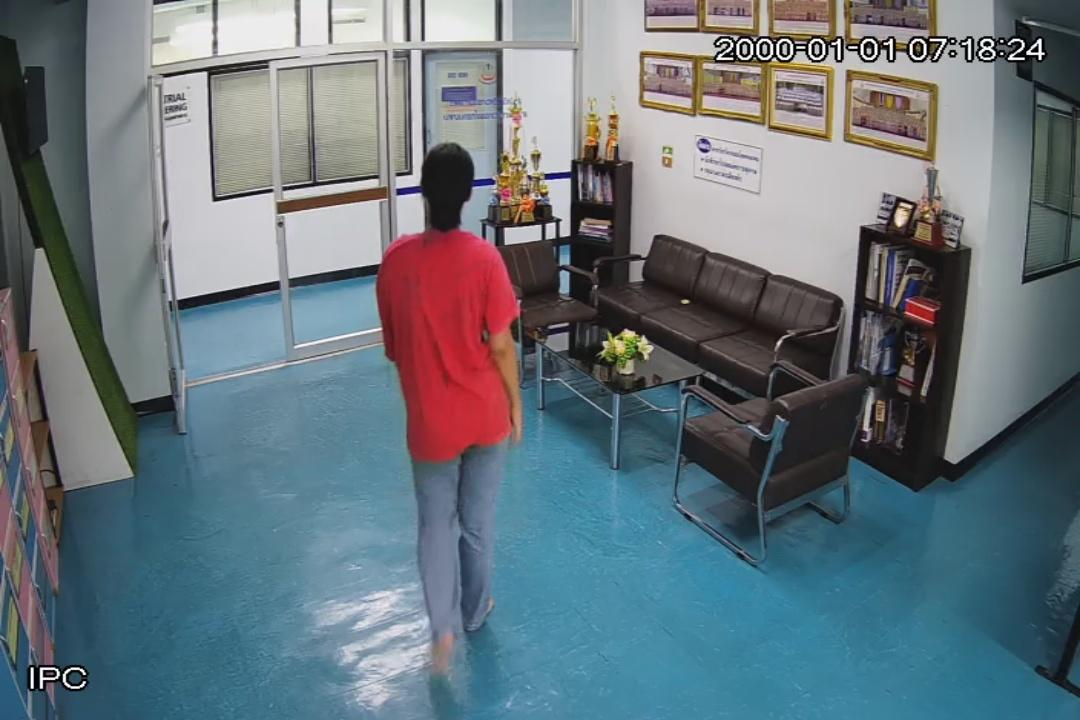normal: (369, 142, 527, 675)
